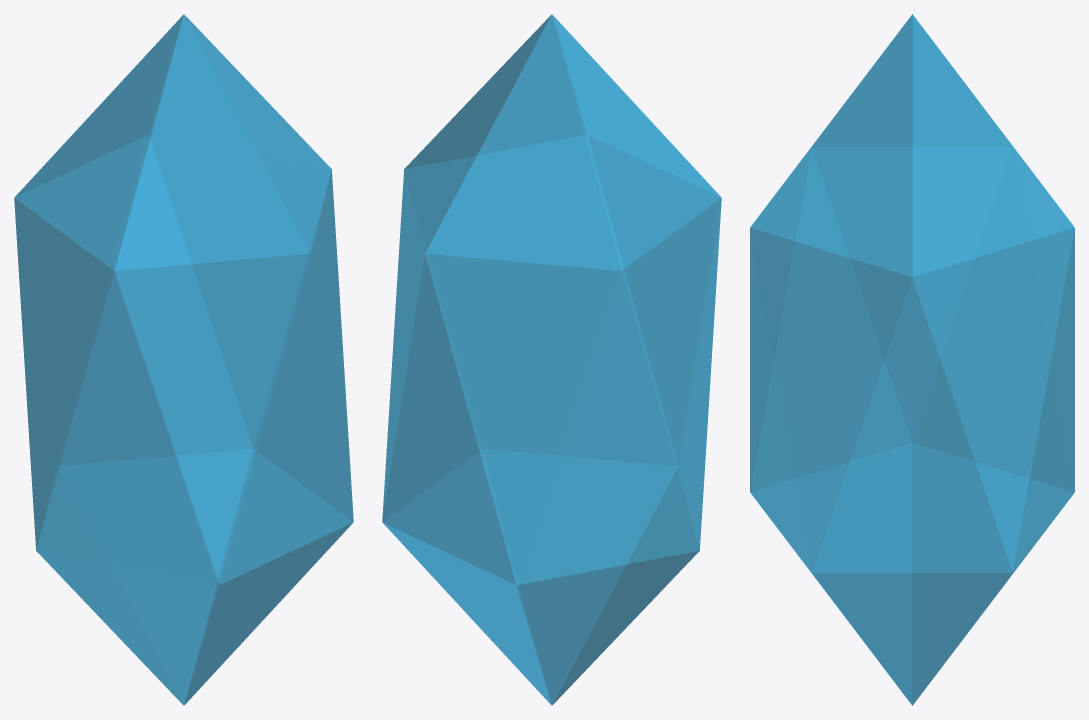
File: crystal1.gltf
3 renders of one model, left to right at view 1: azimuth 30°, elevation 25°; view 2: azimuth 150°, elevation 25°; view 3: azimuth 270°, elevation 25°, orthographic.
Visible parts, largest first — view 1: Icosphere; view 2: Icosphere; view 3: Icosphere.
Part boxes in pixels (x1=…): Icosphere: x1=14, y1=14, x2=353, y2=705; Icosphere: x1=382, y1=14, x2=721, y2=705; Icosphere: x1=750, y1=14, x2=1074, y2=705.
Size of the model in its own units: 1.79 by 4 by 1.7.
